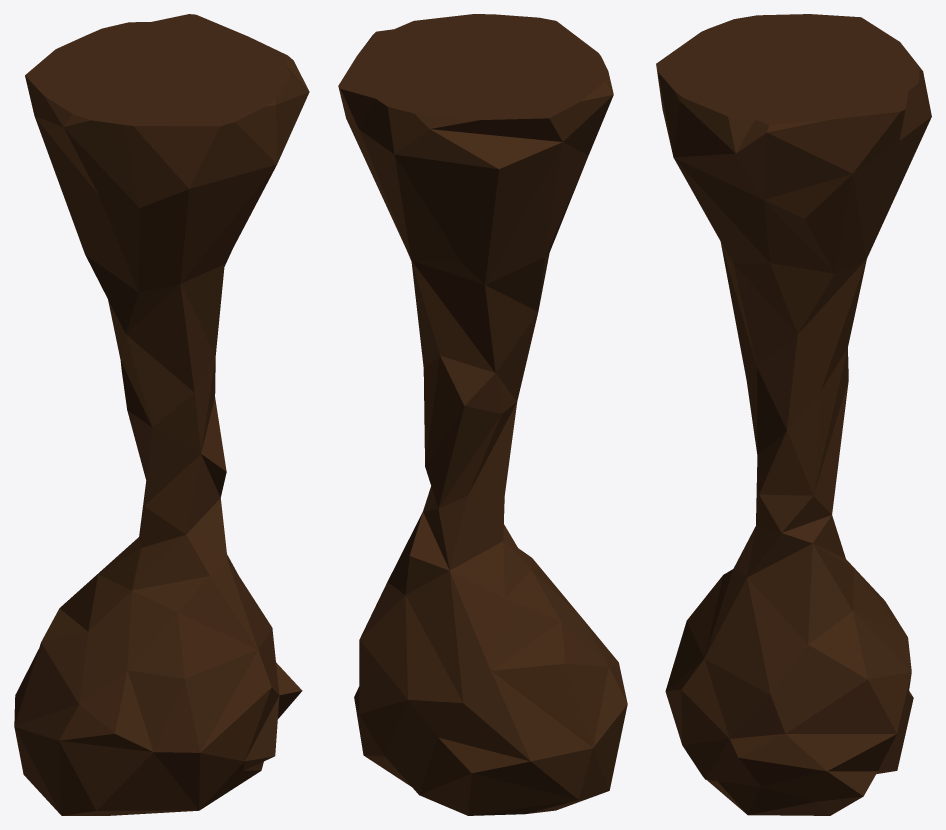
Rendered from Rock Platfromes 1.fbx.
The picture shows the model from 3 angles, left to right: view 1: azimuth 30°, elevation 25°; view 2: azimuth 150°, elevation 25°; view 3: azimuth 270°, elevation 25°; orthographic projection.
Visible parts, largest first — view 1: Cube; view 2: Cube; view 3: Cube.
Boxes of the visible parts, x1,y1,x2,y2 form: Cube: (14,14,309,815); Cube: (338,14,627,815); Cube: (656,14,931,815).
Size of the model in its own units: 384 by 1067 by 362.
